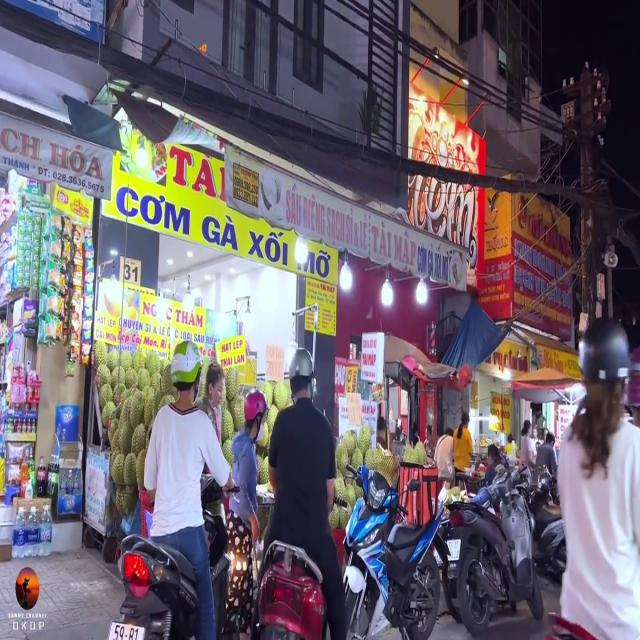bien_trang: (108, 616, 144, 640)
